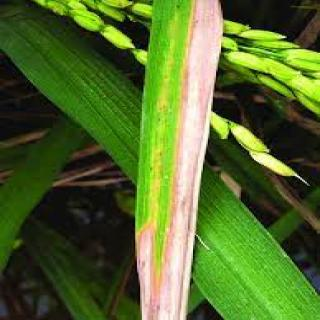Hawar-Daun: (137, 2, 215, 320)
